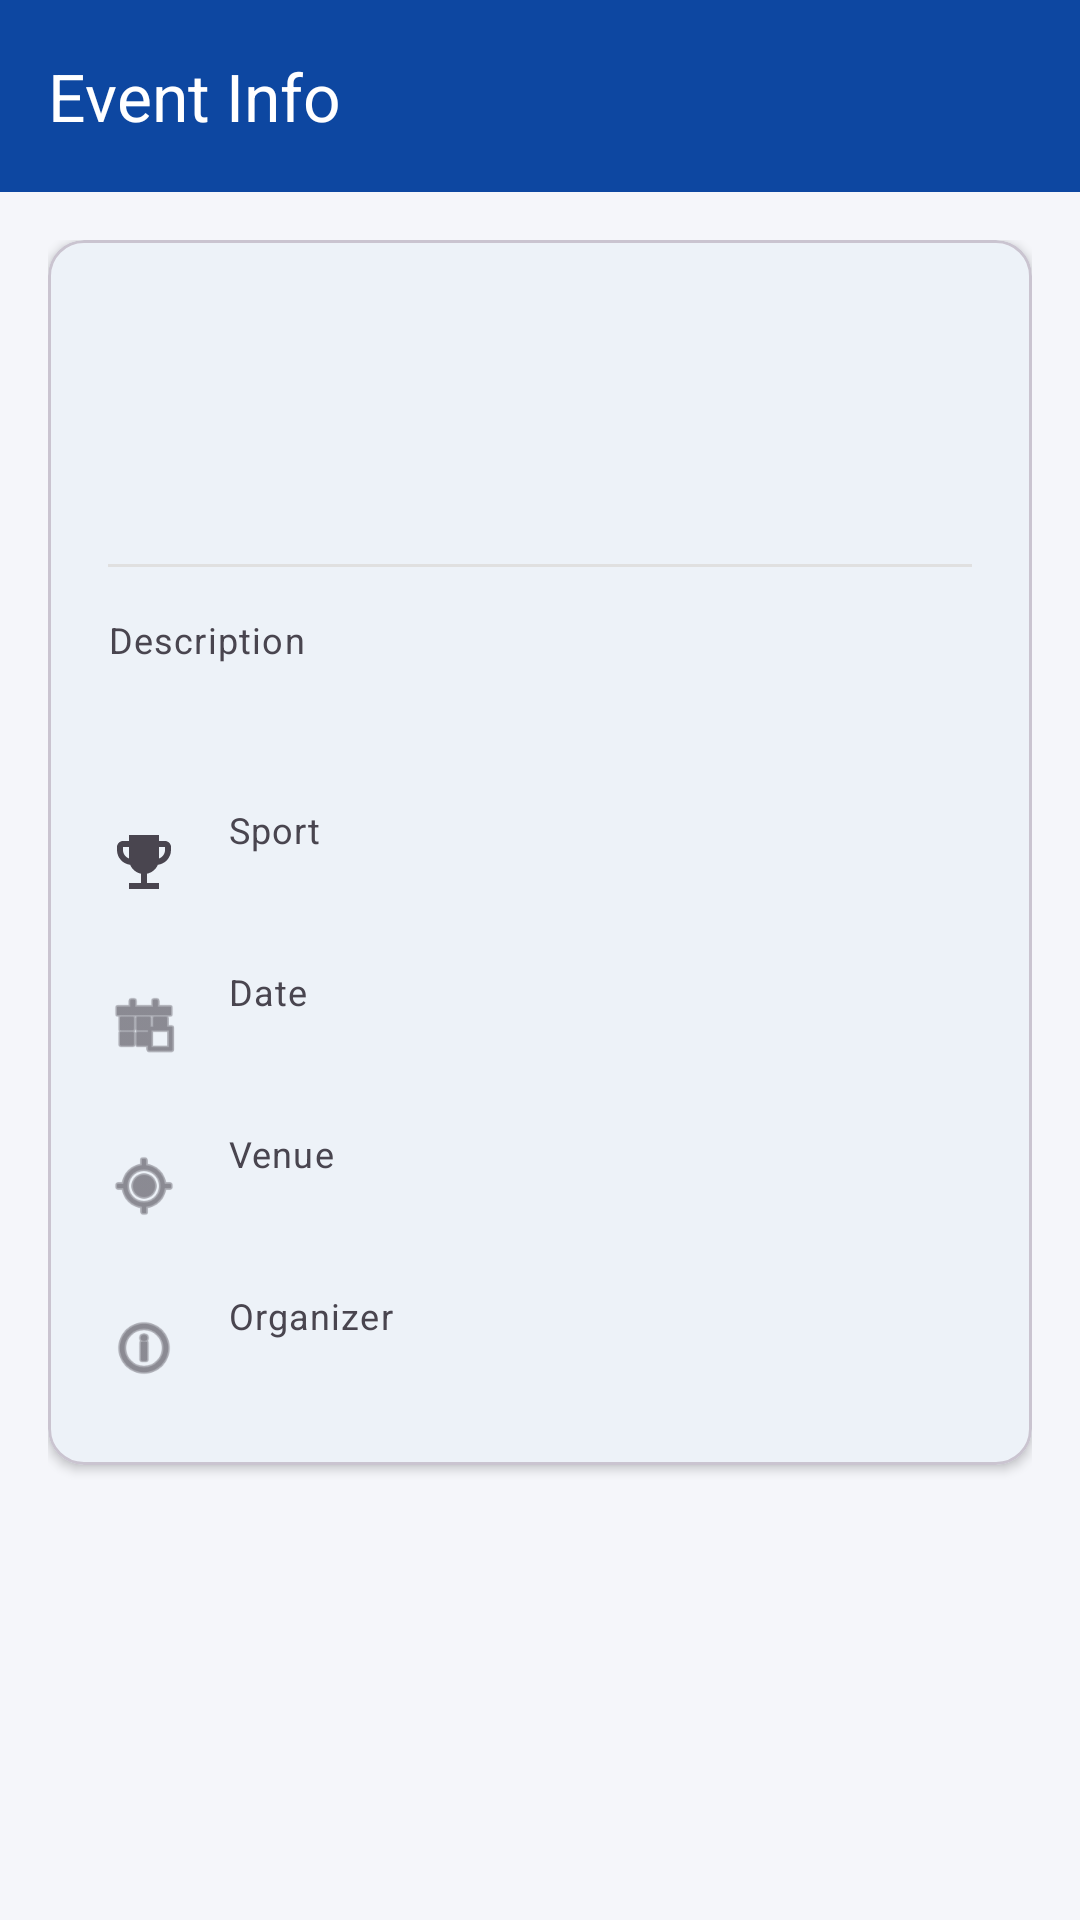

Point at icon controls on the screen. Image size 1080x1920, points as [x,y].
dash tournament: [144,862]
info details: [144,1348]
mylocation: [144,1186]
today: [144,1025]
